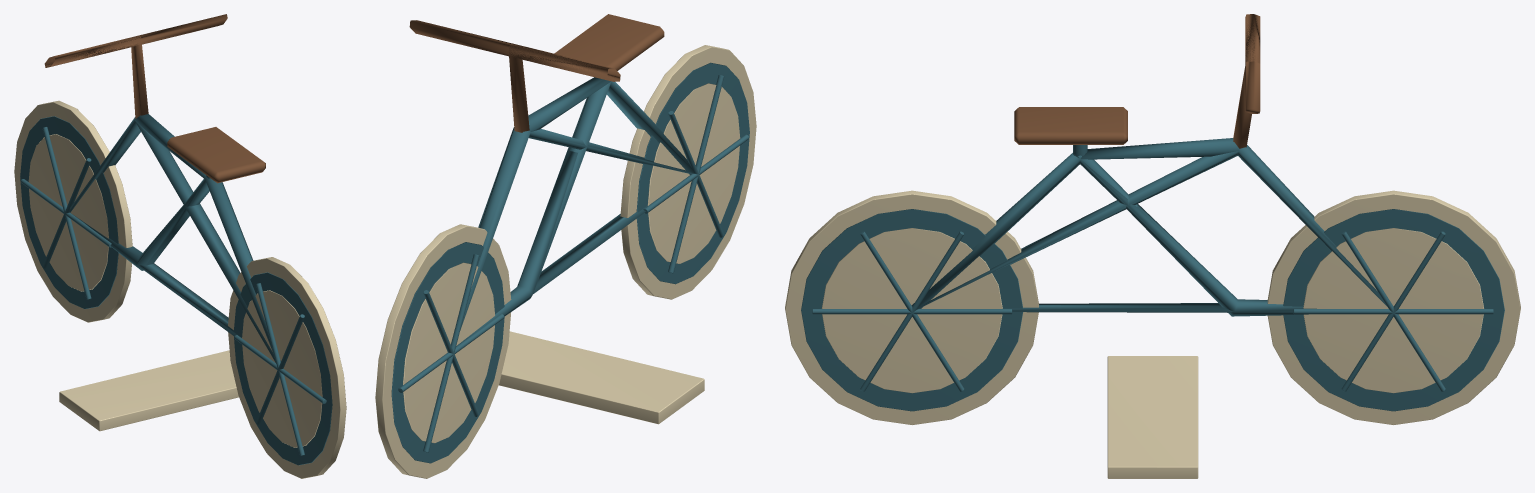
Rendered from X002_cardboard_bicycle_rebuilt.glb.
3 views of the same model, side by side, from view 1: azimuth 30°, elevation 25°; view 2: azimuth 150°, elevation 25°; view 3: azimuth 270°, elevation 25° (orthographic). The views are drawn at different scales.
Visible parts, largest first — view 1: paper, blue, wood; view 2: paper, blue, wood; view 3: paper, blue, wood.
Part boxes in pixels (box(x1,y1,x2,y2)): paper: box(14, 100, 346, 478); blue: box(20, 114, 332, 465); wood: box(44, 14, 265, 183); paper: box(375, 45, 756, 478); blue: box(391, 62, 749, 463); wood: box(409, 14, 664, 132); paper: box(785, 190, 1520, 478); blue: box(801, 138, 1504, 411); wood: box(1014, 14, 1260, 148).
Bounding box in the file's own units: 0.57 × 0.87 × 1.59.
